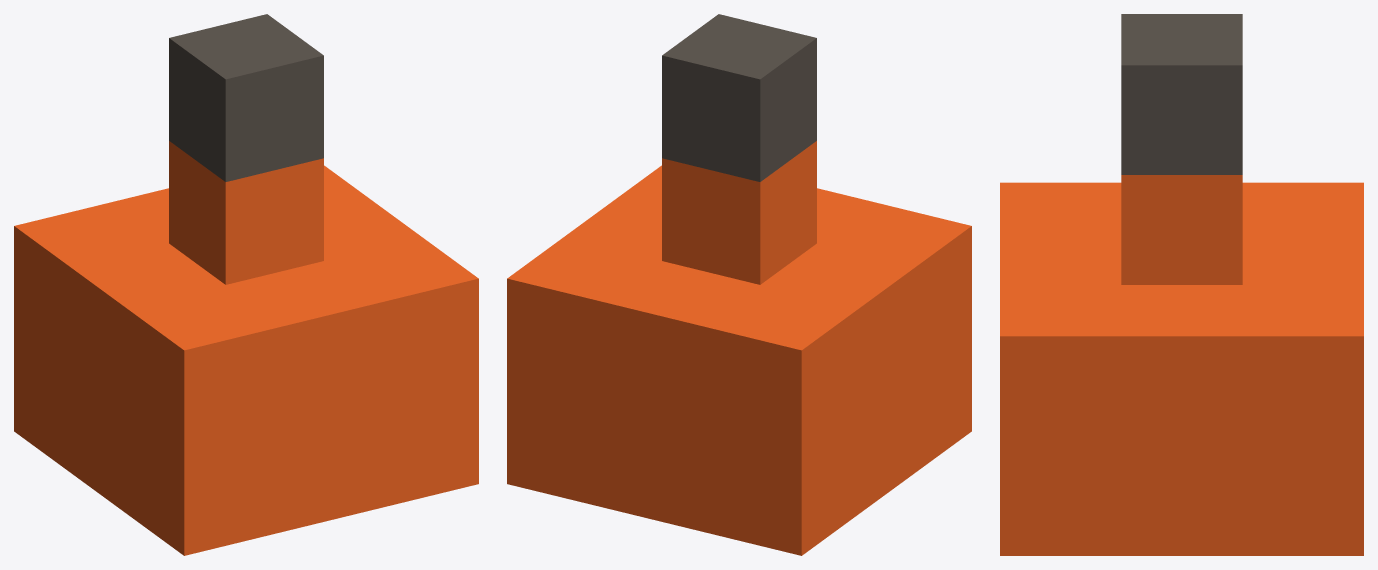
File: potion_d.obj
The picture shows the model from 3 angles, left to right: view 1: azimuth 30°, elevation 25°; view 2: azimuth 150°, elevation 25°; view 3: azimuth 270°, elevation 25°; orthographic projection. The views are drawn at different scales.
Bounding box in the file's own units: 0.3 × 0.4 × 0.3.
Materials: 1 (1 with a texture image).
